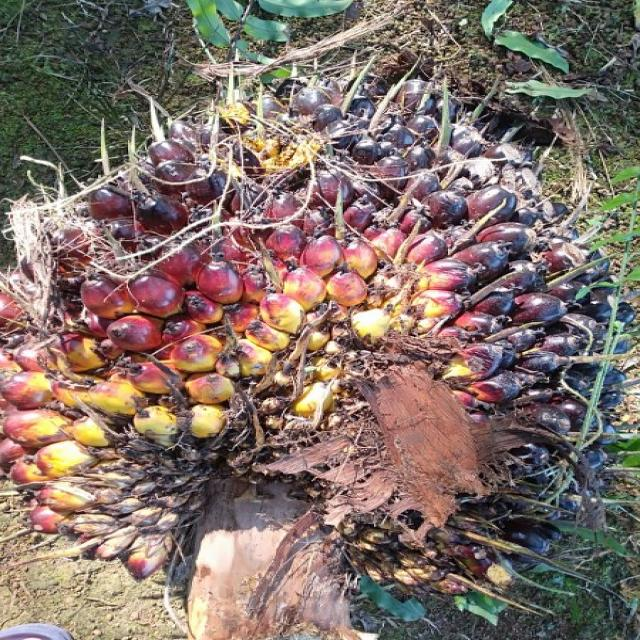fraksi 1: (0, 60, 636, 624)
